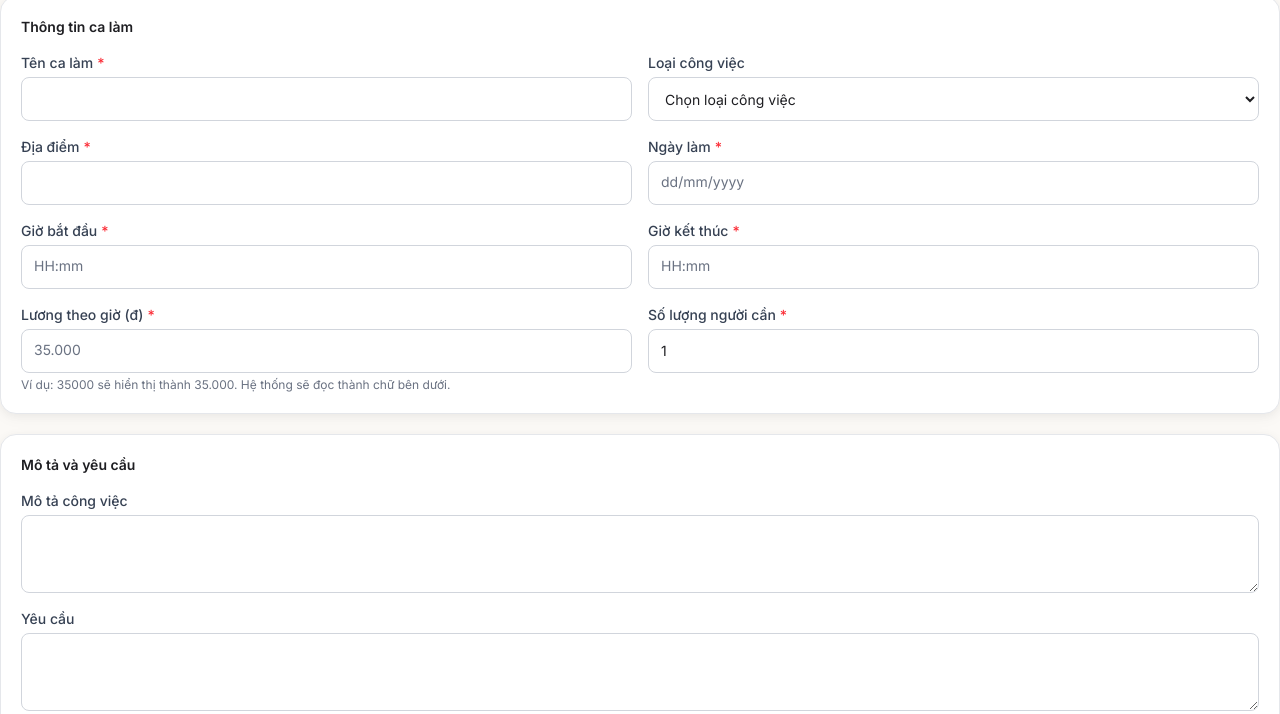
<ShiftForm/> — Phase 10C evidence picker › disables sub-min options for high-risk job categories
Step 1. Select "Thu ngân" in the dropdown labelled "Loại công việc" → (954, 99), box [648,77,1259,121]
(page scrolled)
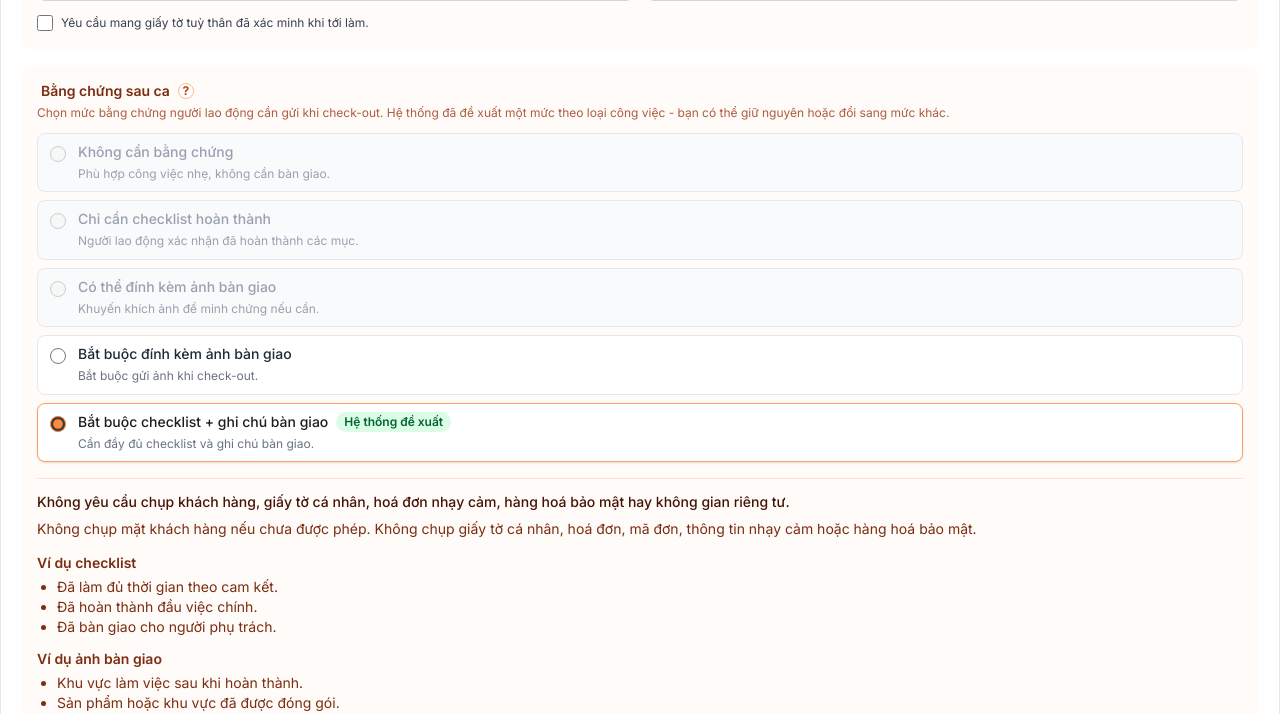
Expected: the 1st radio button is disabled, [50,146,66,162]
Expected: the 2nd radio button is disabled, [50,213,66,229]
Expected: the 3rd radio button is disabled, [50,280,66,296]
